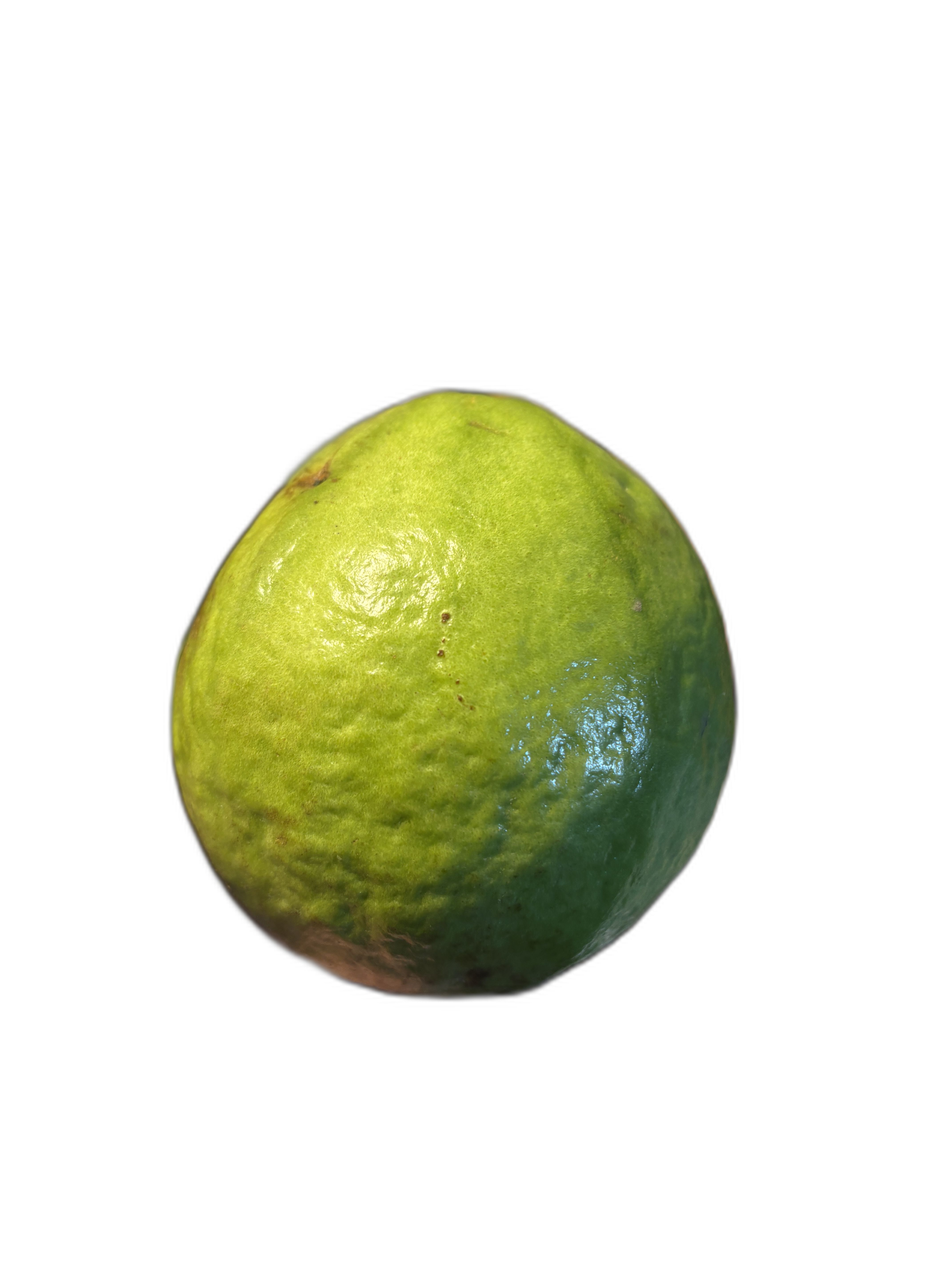guava: (213, 209, 813, 1073)
